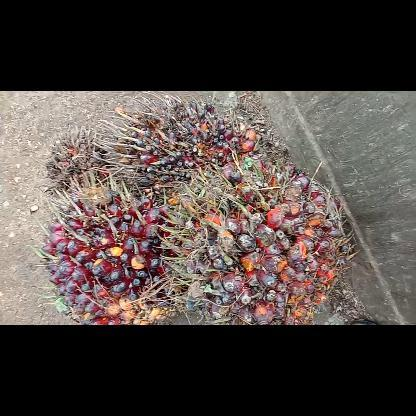TBS abnormal: (92, 94, 263, 210), (41, 122, 120, 210)
TBS masak: (150, 161, 366, 323), (29, 168, 190, 324)
